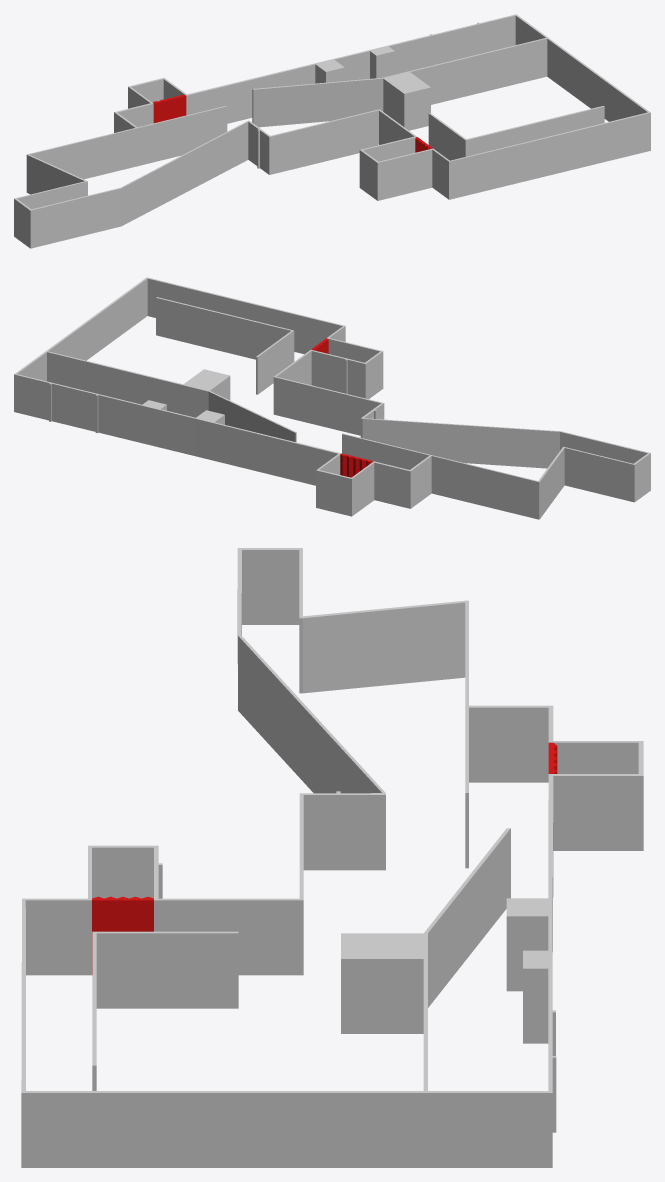
File: BaseMap.fbx
3 renders of one model, top to bottom at view 1: azimuth 30°, elevation 25°; view 2: azimuth 150°, elevation 25°; view 3: azimuth 270°, elevation 25°, orthographic. The views are drawn at different scales.
Parts seen in each view (by area): view 1: Platform.001, Platform.010, Platform.002, Platform.015, Platform.011, Platform.006, Platform.016, Platform.003, ClimbableWall.003, Platform.008, Platform.004, Obstacle.001 (+19 smaller); view 2: Platform.002, Platform.010, Platform.016, Platform.004, Platform.008, Platform.011, Platform.001, Platform.006, ClimbableWall.003, Platform.014, Platform.005, Platform.015 (+18 smaller); view 3: ClimbableWall.003, UnclimbableWall, ClimbableWall.001, ClimbableWall, Platform.002, Obstacle.001, ClimbableWall.005, ClimbableWall.009, Platform.015, ClimbableWall.011, ClimbableWall.007, ClimbableWall.004 (+11 smaller).
Part boxes in pixels (left/top/right/bottom): Platform.001: left=448, top=112, right=650, bottom=199; Platform.010: left=26, top=105, right=227, bottom=192; Platform.002: left=121, top=120, right=249, bottom=226; Platform.015: left=252, top=78, right=383, bottom=127; Platform.011: left=409, top=37, right=548, bottom=104; Platform.006: left=268, top=109, right=379, bottom=174; Platform.016: left=388, top=14, right=516, bottom=74; Platform.003: left=29, top=187, right=121, bottom=248; ClimbableWall.003: left=547, top=38, right=649, bottom=121; Platform.008: left=187, top=63, right=315, bottom=123; Platform.004: left=464, top=106, right=604, bottom=156; Obstacle.001: left=382, top=71, right=430, bottom=130; Platform.002: left=360, top=417, right=560, bottom=468; Platform.010: left=342, top=433, right=539, bottom=519; Platform.016: left=14, top=373, right=141, bottom=442; Platform.004: left=156, top=297, right=294, bottom=361; Platform.008: left=213, top=422, right=339, bottom=485; Platform.011: left=45, top=351, right=182, bottom=414; Platform.001: left=146, top=277, right=345, bottom=354; Platform.006: left=273, top=376, right=384, bottom=435; ClimbableWall.003: left=46, top=278, right=147, bottom=360; Platform.014: left=563, top=446, right=635, bottom=502; Platform.005: left=310, top=349, right=366, bottom=398; Platform.015: left=208, top=391, right=296, bottom=442; ClimbableWall.003: left=26, top=1091, right=423, bottom=1167; UnclimbableWall: left=303, top=600, right=465, bottom=693; ClimbableWall.001: left=96, top=931, right=238, bottom=1008; ClimbableWall: left=428, top=1091, right=548, bottom=1167; Platform.002: left=238, top=635, right=385, bottom=870; Obstacle.001: left=341, top=933, right=427, bottom=1033; ClimbableWall.005: left=158, top=898, right=299, bottom=975; ClimbableWall.009: left=548, top=774, right=643, bottom=850; Platform.015: left=424, top=828, right=510, bottom=1007; ClimbableWall.011: left=303, top=791, right=382, bottom=870; ClimbableWall.007: left=469, top=705, right=548, bottom=782; ClimbableWall.004: left=25, top=898, right=87, bottom=975.
Size of the model in its own units: 31.11 by 2 by 15.01.
